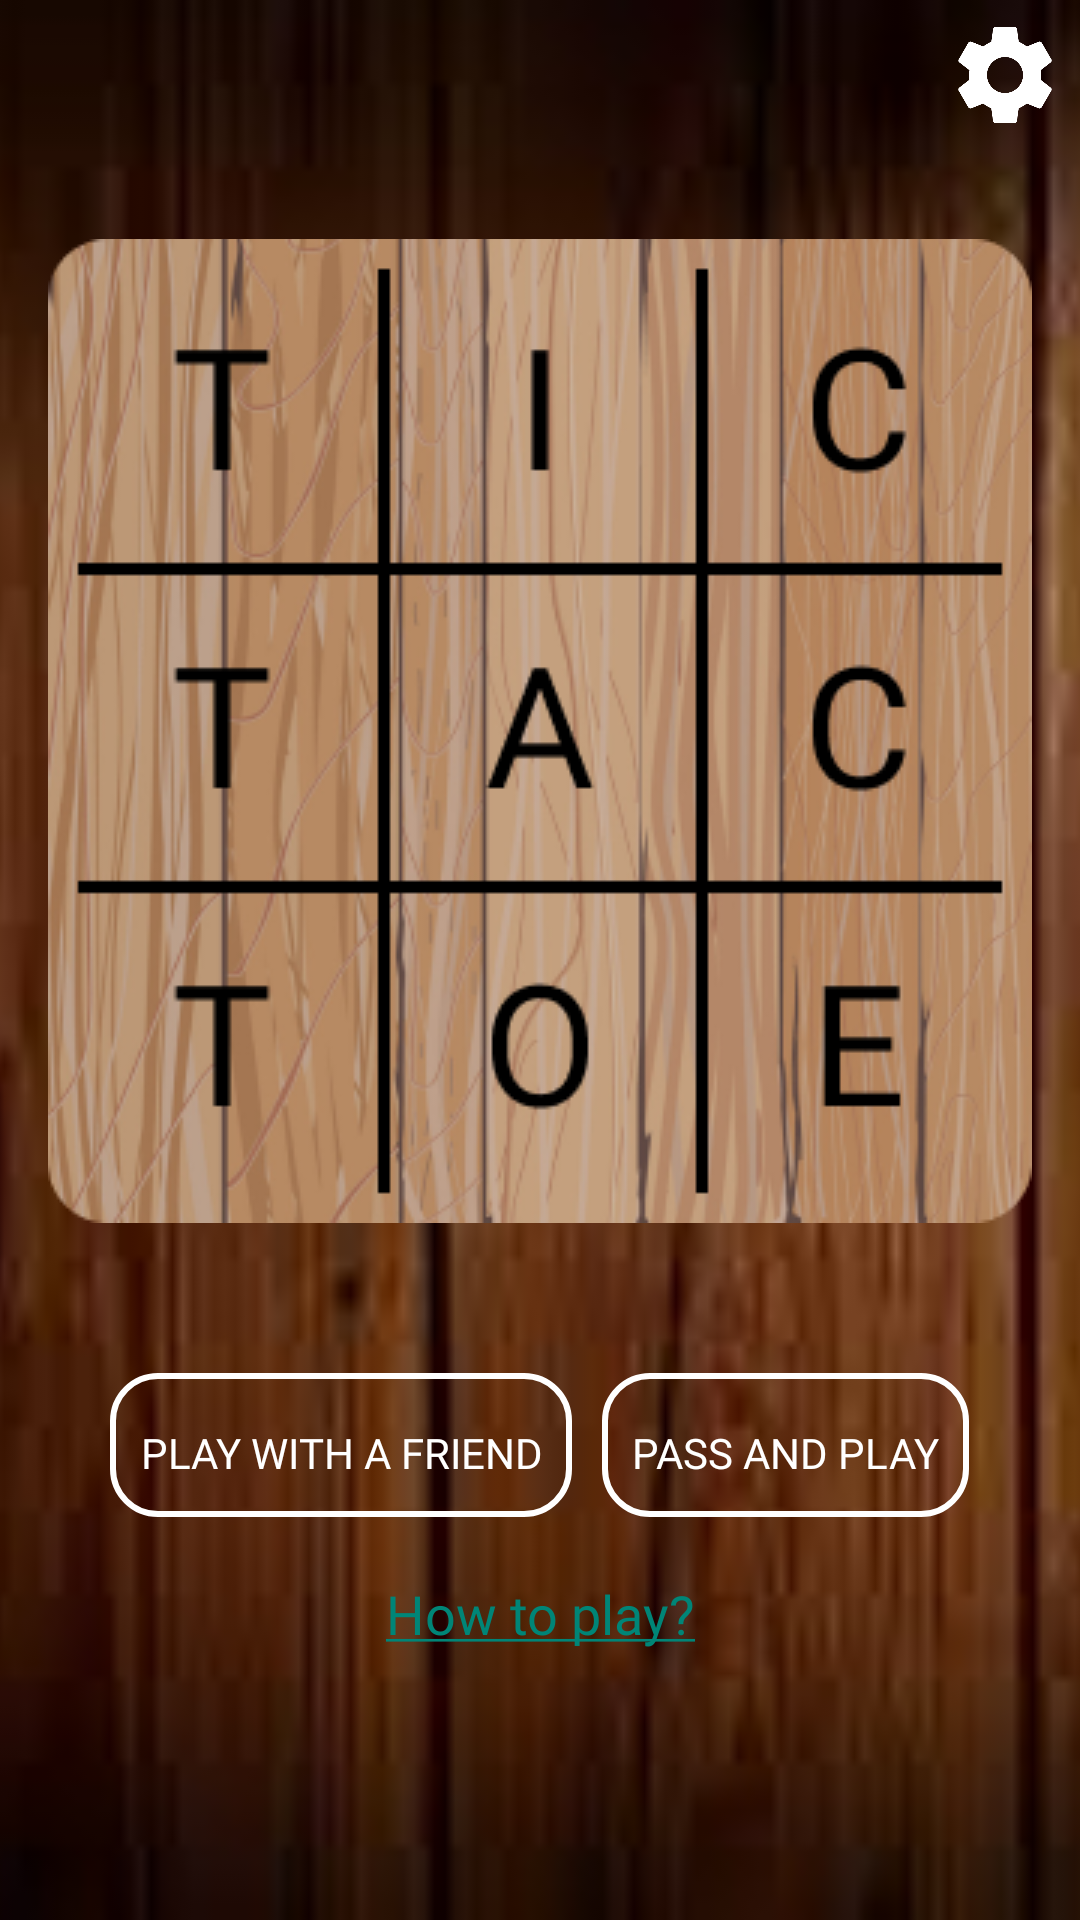

Icon bounding boxes for this 1080*1920 phone screenshot, format (x1, y1, x2, y2):
settings: (958, 27, 1065, 135)
